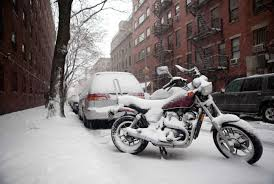motorcycle: (107, 65, 267, 164)
